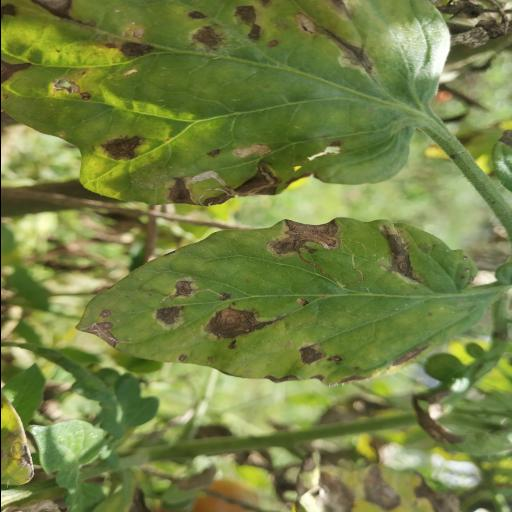Early Blight: (0, 0, 450, 209), (72, 215, 480, 387)
